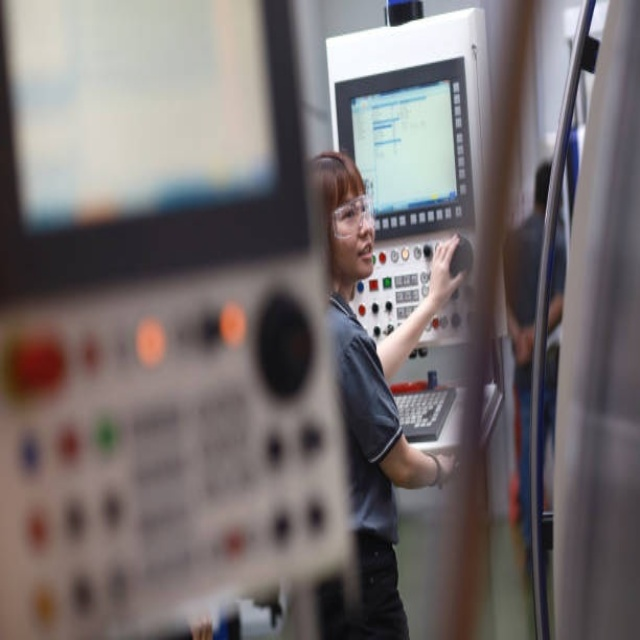Gafas: (331, 193, 375, 239)
Sin_guantes: (420, 231, 467, 309)
Sin_mascara: (349, 237, 376, 276)
